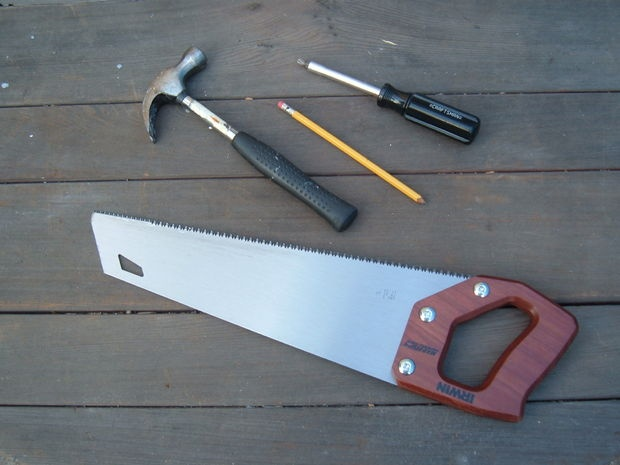hammer: (140, 46, 358, 232)
